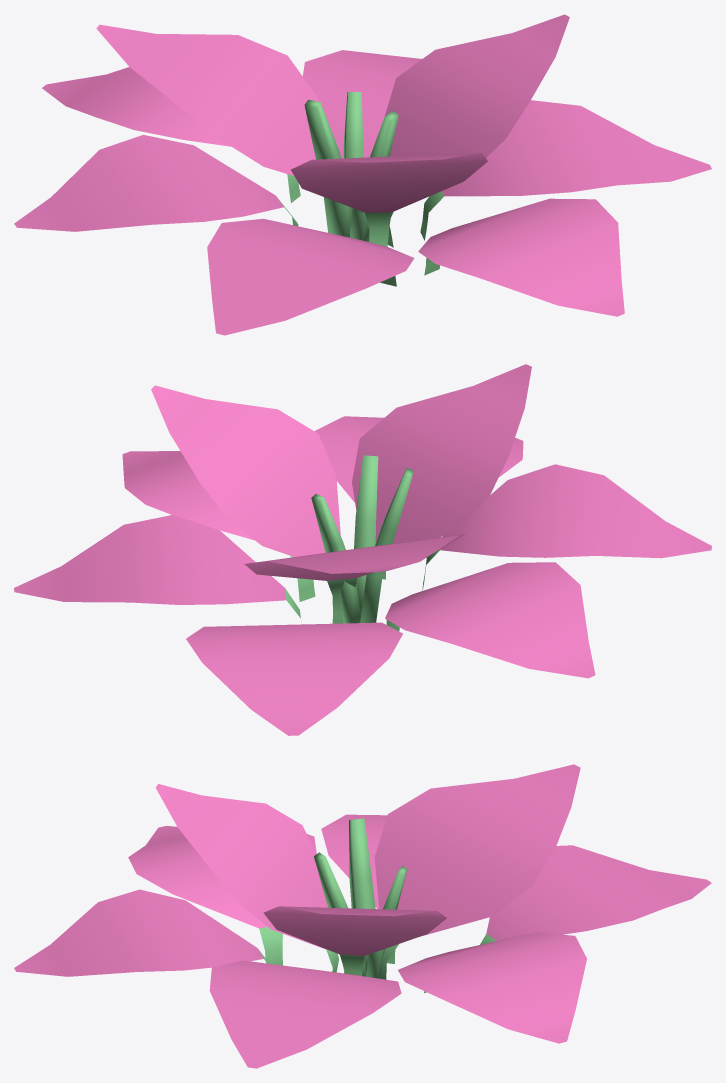
File: flower_08_bed.glb
The picture shows the model from 3 angles, top to bottom: view 1: azimuth 30°, elevation 25°; view 2: azimuth 150°, elevation 25°; view 3: azimuth 270°, elevation 25°; orthographic projection. The views are drawn at different scales.
Parts seen in each view (by area): view 1: Bed_Export; view 2: Bed_Export; view 3: Bed_Export.
Boxes of the visible parts, bbox=[...] form: Bed_Export: bbox=[14, 14, 711, 335]; Bed_Export: bbox=[14, 364, 711, 735]; Bed_Export: bbox=[14, 764, 711, 1068].
Bounding box in the file's own units: 2.17 × 0.6712 × 2.45.
